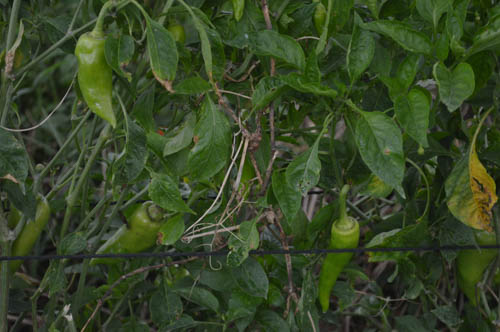ChiliPepper: (80, 205, 160, 270), (74, 38, 117, 125), (316, 224, 359, 311), (12, 197, 50, 266), (456, 229, 486, 301)
